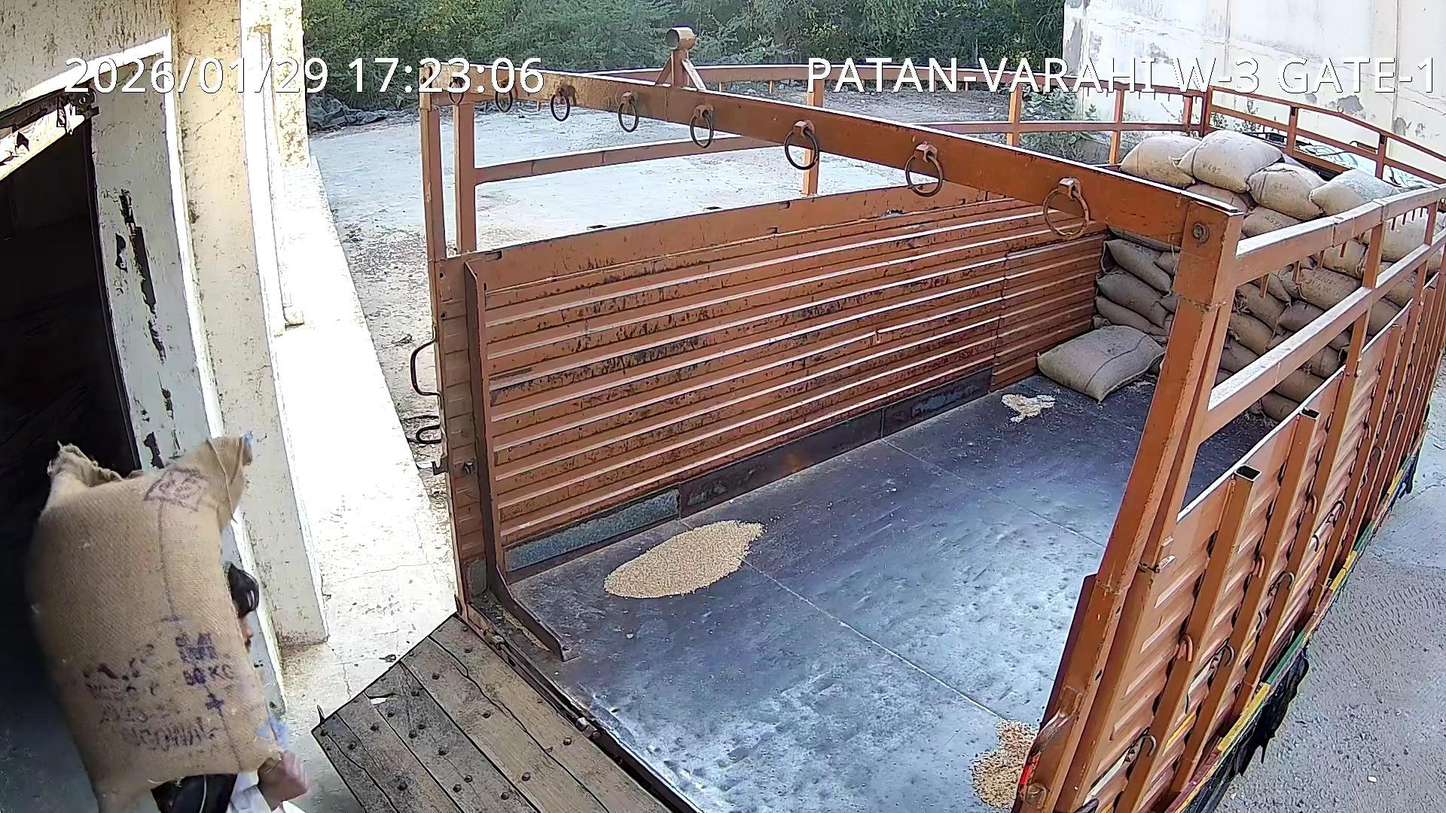Sack: (27, 437, 280, 812)
